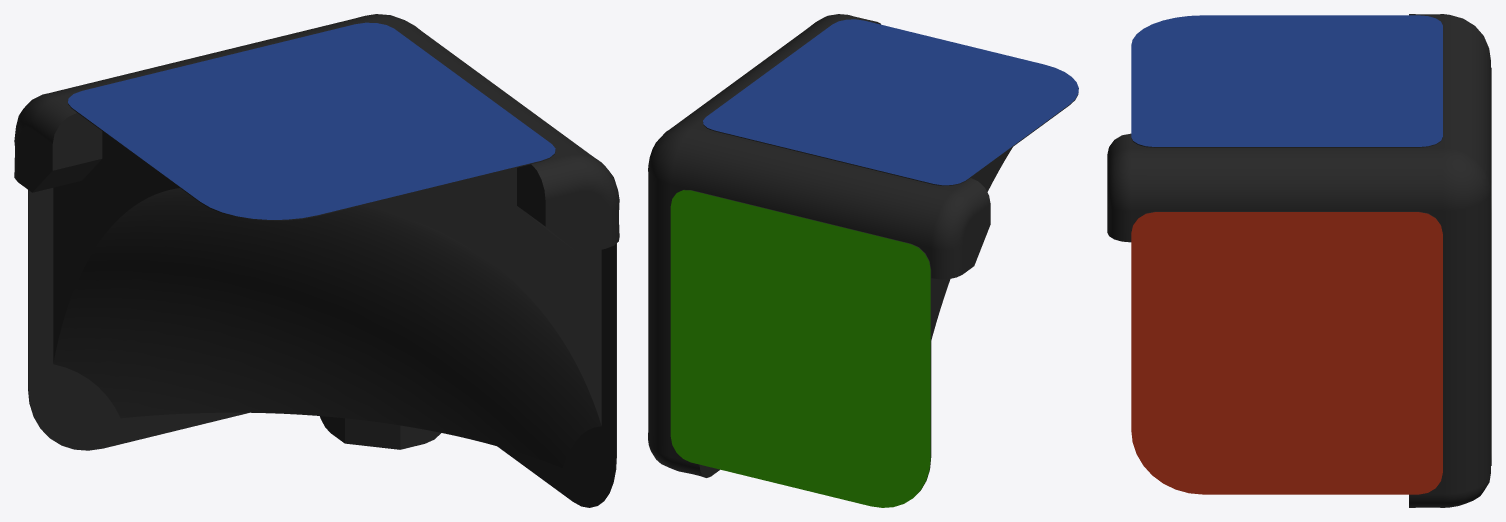
File: puzzle_cube_corner_shell.glb
The picture shows the model from 3 angles, left to right: view 1: azimuth 30°, elevation 25°; view 2: azimuth 150°, elevation 25°; view 3: azimuth 270°, elevation 25°; orthographic projection. The views are drawn at different scales.
Parts seen in each view (by area): view 1: puzzle_cube_corner_shell; view 2: puzzle_cube_corner_shell; view 3: puzzle_cube_corner_shell.
Part boxes in pixels (<box>): puzzle_cube_corner_shell: <box>14,14,619,507</box>; puzzle_cube_corner_shell: <box>648,14,1078,507</box>; puzzle_cube_corner_shell: <box>1107,14,1491,507</box>.
Bounding box in the file's own units: 0.0401 × 0.0401 × 0.0401.
